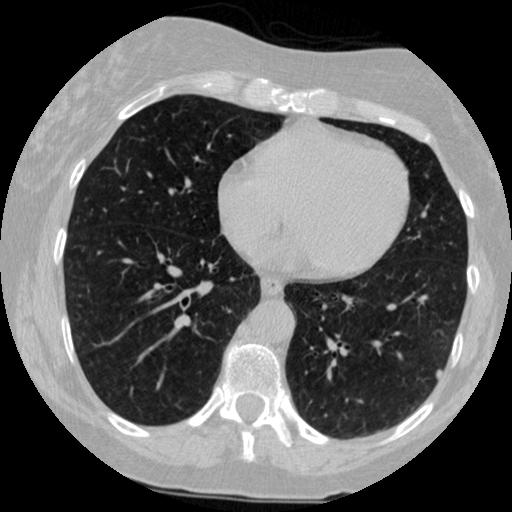nodule: (431, 367, 443, 379)
